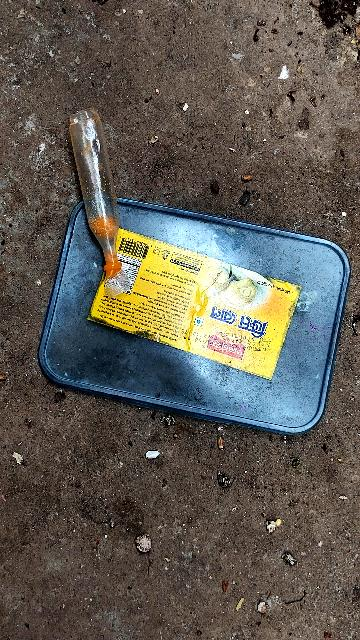hardplastic: (39, 184, 357, 435)
